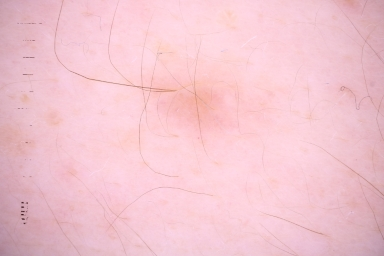nevus: (158, 87, 217, 124)
